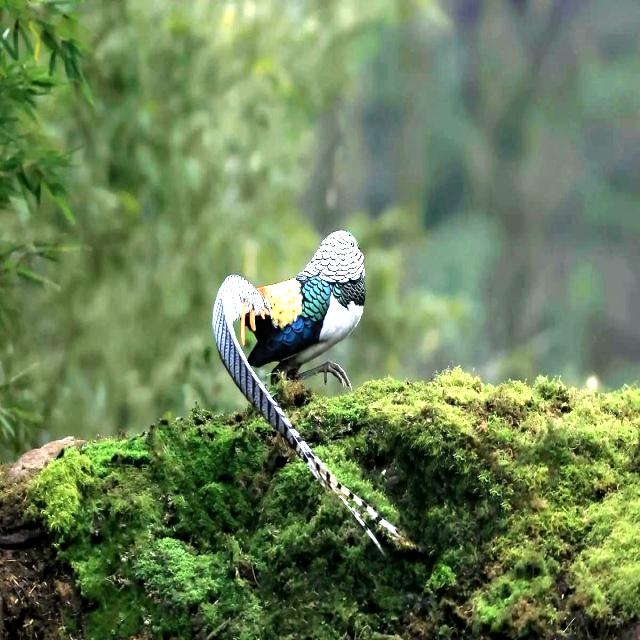Chrysolophus amherstiae: (212, 277, 337, 488)
